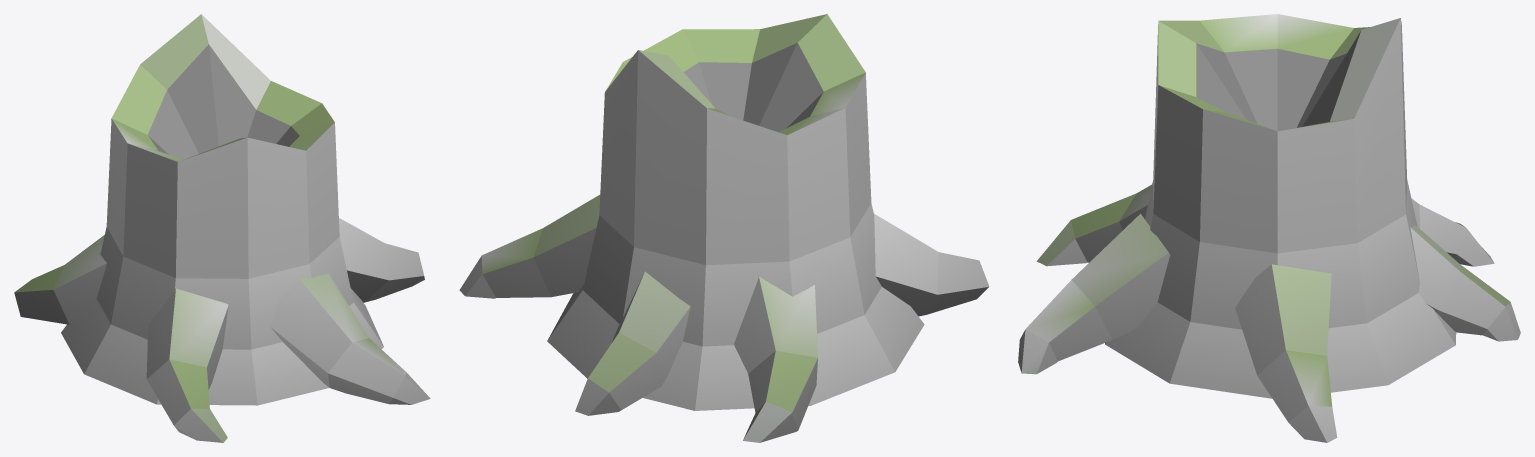
The model's file is stump_rotten.glb.
3 renders of one model, left to right at view 1: azimuth 30°, elevation 25°; view 2: azimuth 150°, elevation 25°; view 3: azimuth 270°, elevation 25°, orthographic. The views are drawn at different scales.
Parts seen in each view (by area): view 1: stump_rotten; view 2: stump_rotten; view 3: stump_rotten.
Part boxes in pixels (box(x1,y1,x2,y2)): stump_rotten: box(14, 14, 430, 442); stump_rotten: box(459, 14, 989, 442); stump_rotten: box(1018, 14, 1520, 442).
Bounding box in the file's own units: 1.73 × 1.29 × 1.84.
